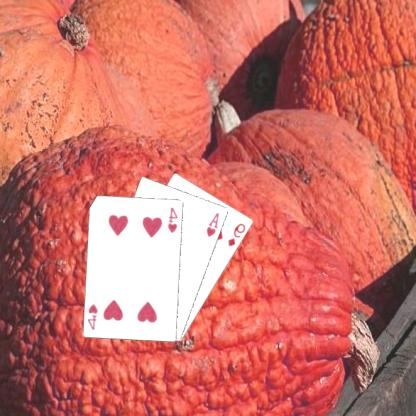4H: (167, 204, 181, 234), (87, 301, 101, 331)
9D: (227, 220, 249, 248)
AH: (206, 210, 222, 238)
